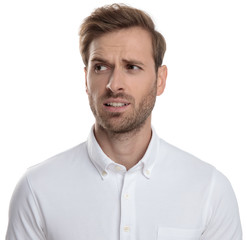young: (72, 14, 173, 132)
